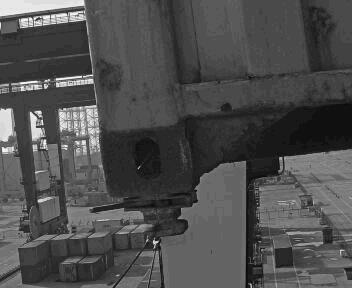twist_lock_1: (107, 187, 208, 256)
